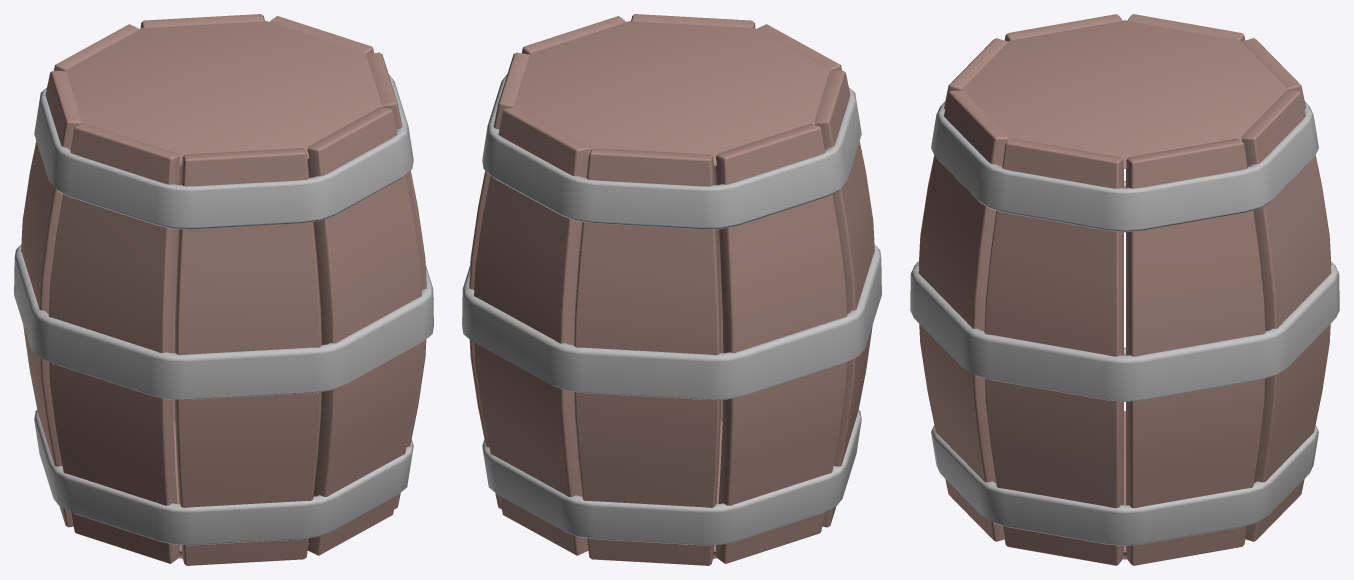
The model's file is Farm_2_Barrel_1.glb.
3 views of the same model, side by side, from view 1: azimuth 30°, elevation 25°; view 2: azimuth 150°, elevation 25°; view 3: azimuth 270°, elevation 25° (orthographic).
Parts seen in each view (by area): view 1: Farm_2_Barrel_1; view 2: Farm_2_Barrel_1; view 3: Farm_2_Barrel_1.
Part boxes in pixels (x1,y1,x2,y2): Farm_2_Barrel_1: [14, 14, 433, 565]; Farm_2_Barrel_1: [462, 14, 881, 565]; Farm_2_Barrel_1: [910, 14, 1339, 565].
Bounding box in the file's own units: 0.7761 × 0.8074 × 0.7761.
1 material, 1 textured.
